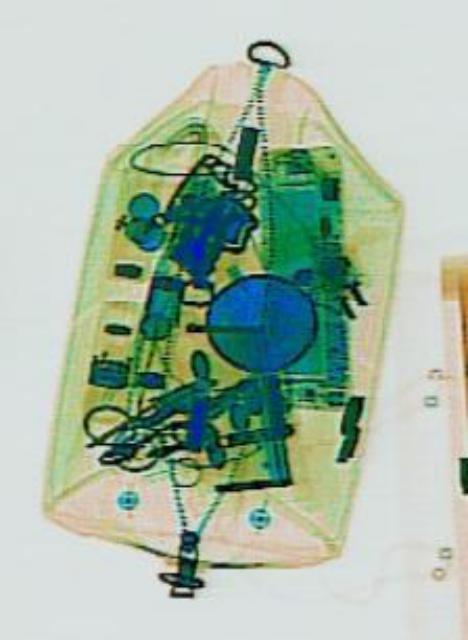Scissors: (75, 338, 226, 490)
